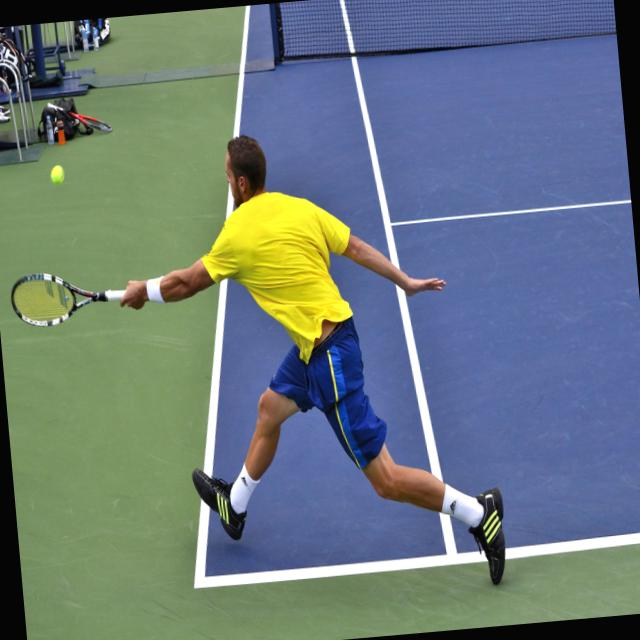Tennis Ball: (49, 164, 66, 184)
